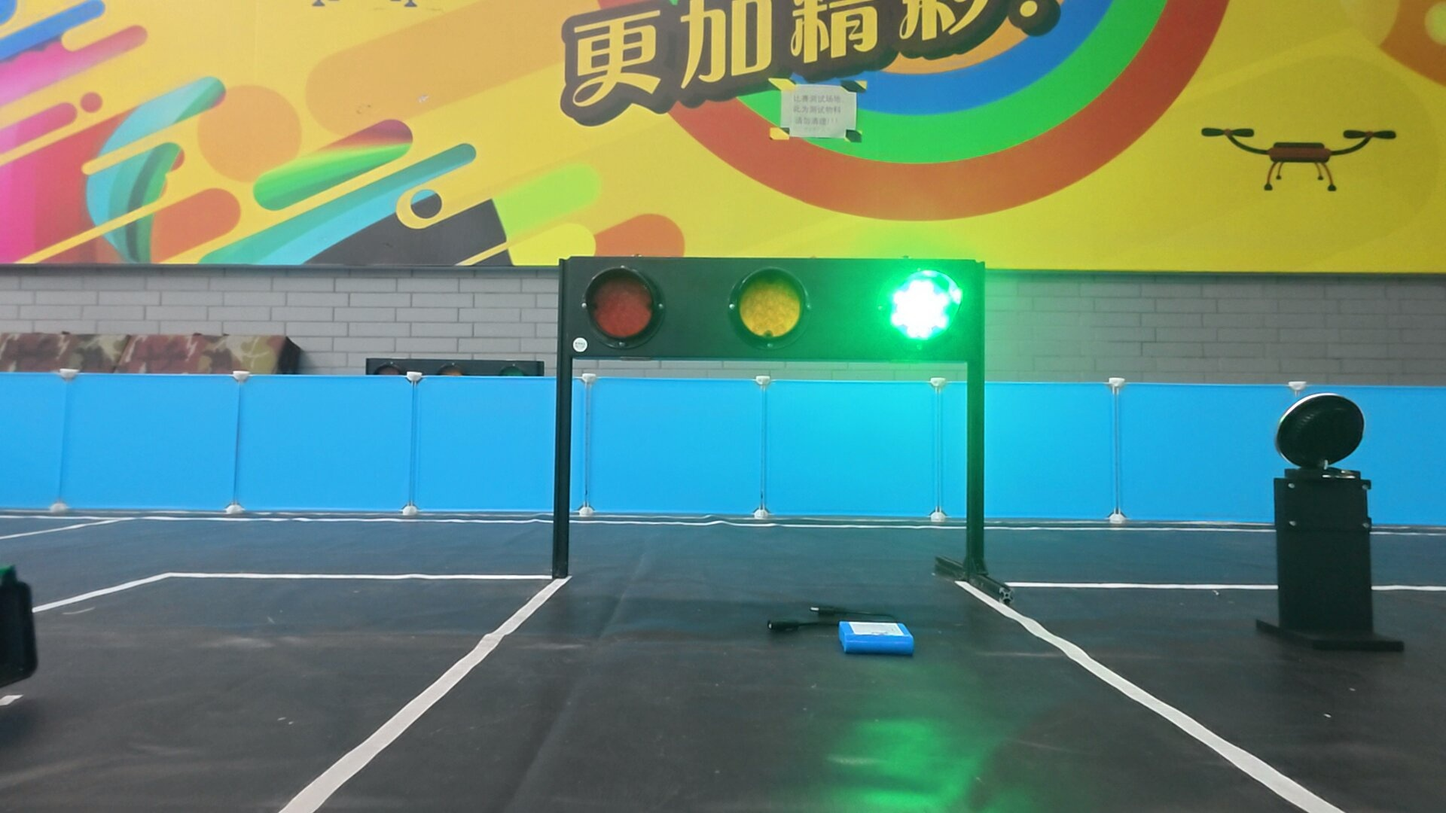go: (880, 265, 967, 352)
